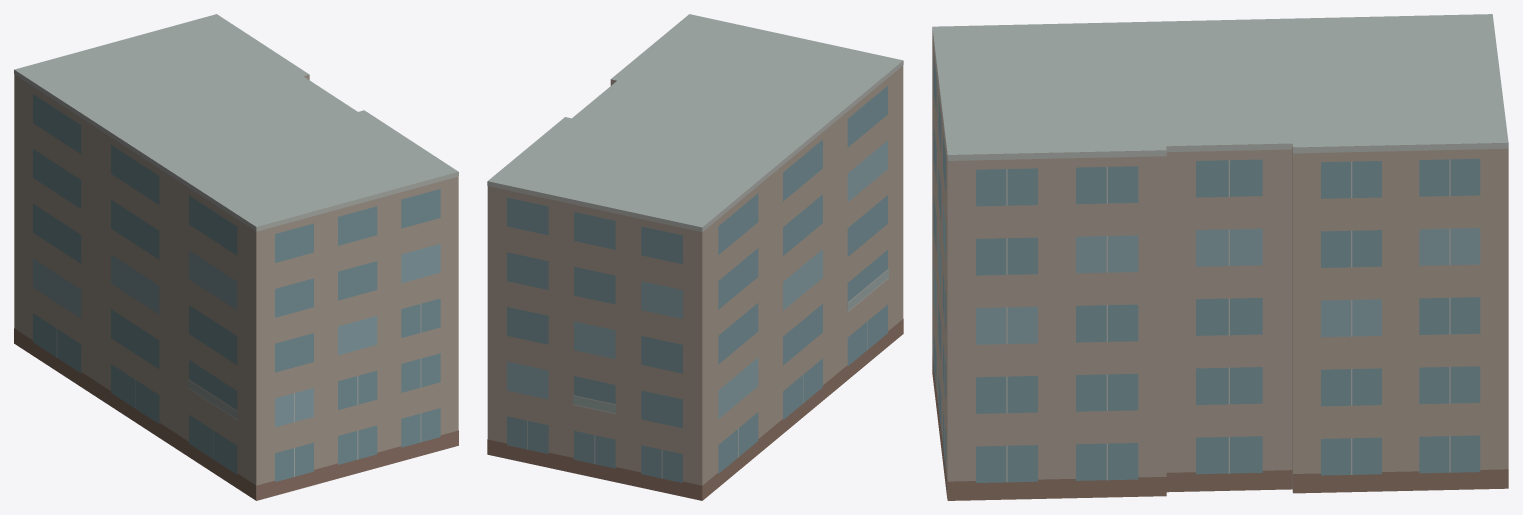
The model's file is survey-upis-32703173.glb.
3 renders of one model, left to right at view 1: azimuth 30°, elevation 25°; view 2: azimuth 150°, elevation 25°; view 3: azimuth 270°, elevation 25°, orthographic. The views are drawn at different scales.
Visible parts, largest first — view 1: survey-upis-32703173.tmp; view 2: survey-upis-32703173.tmp; view 3: survey-upis-32703173.tmp.
Part boxes in pixels (left/top/right/bottom): survey-upis-32703173.tmp: left=14, top=14, right=458, bottom=500; survey-upis-32703173.tmp: left=487, top=14, right=903, bottom=500; survey-upis-32703173.tmp: left=932, top=14, right=1508, bottom=500.
Bounding box in the file's own units: 12.38 × 14.15 × 21.38.
